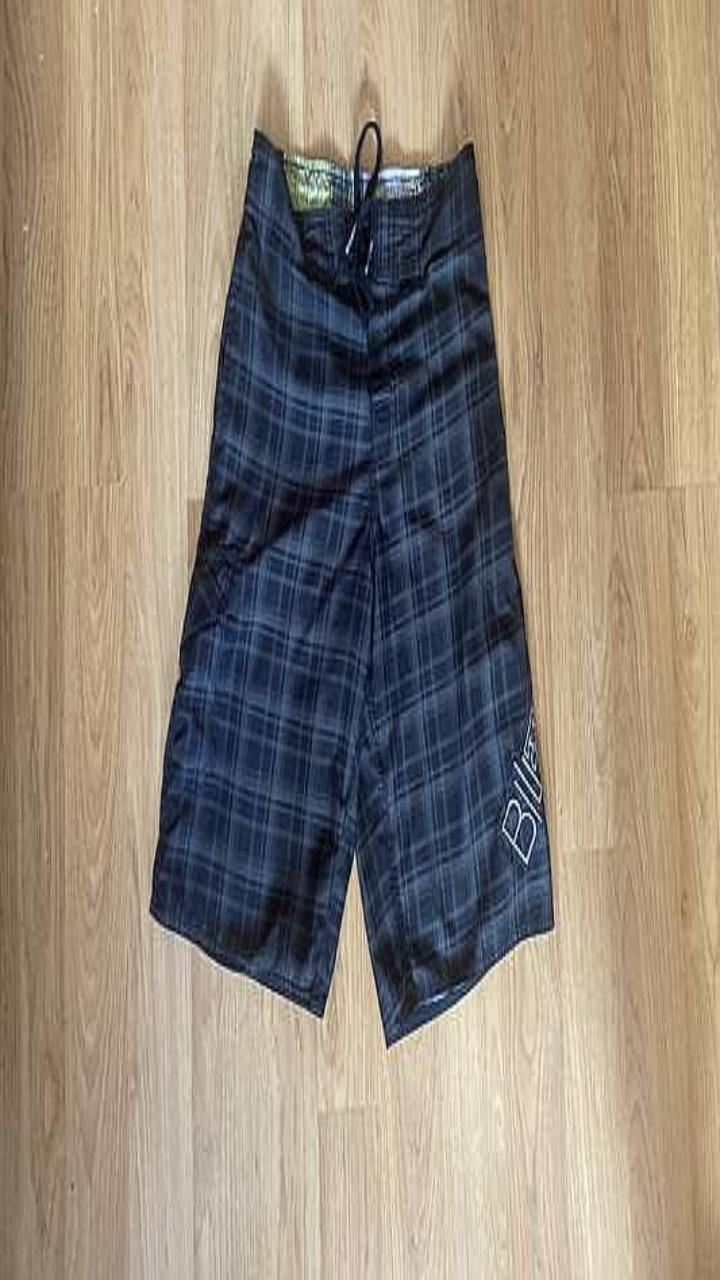Shorts: (150, 129, 552, 1044)
